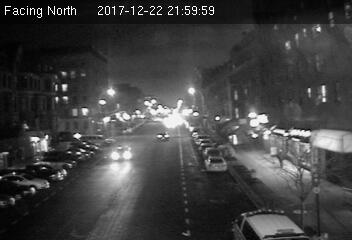car: (205, 156, 227, 173), (111, 145, 134, 160), (156, 131, 169, 141)
